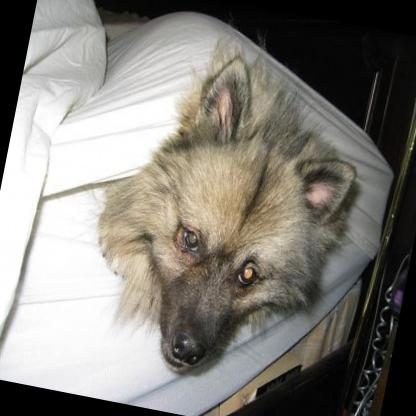keeshond: (72, 16, 380, 400)
